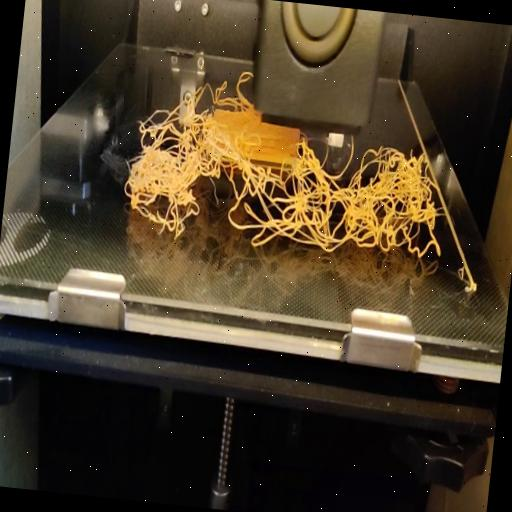spaghetti: (118, 104, 452, 266), (177, 62, 257, 119)
